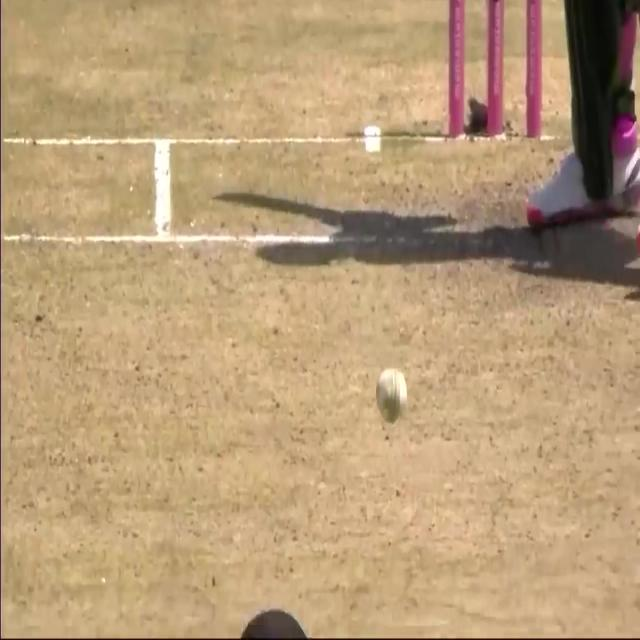Batsman: (371, 358, 414, 432)
